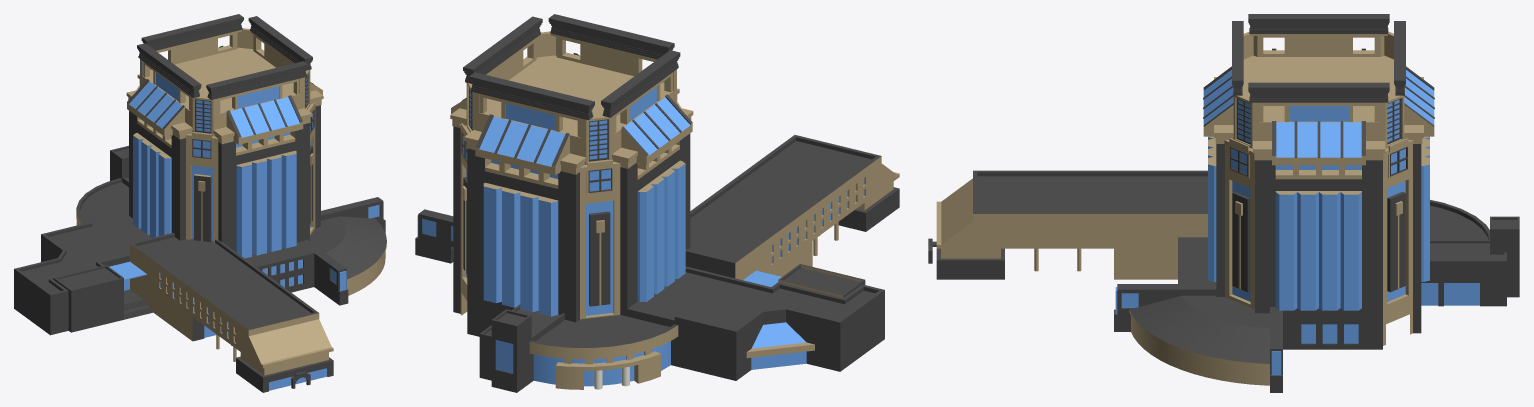
Rendered from SHOU library.fbx.
3 renders of one model, left to right at view 1: azimuth 30°, elevation 25°; view 2: azimuth 150°, elevation 25°; view 3: azimuth 270°, elevation 25°, orthographic. The views are drawn at different scales.
Parts seen in each view (by area): view 1: SHOU library; view 2: SHOU library; view 3: SHOU library.
Boxes of the visible parts, bbox=[...] form: SHOU library: bbox=[14, 14, 386, 392]; SHOU library: bbox=[415, 14, 899, 392]; SHOU library: bbox=[928, 14, 1519, 392].
Size of the model in its own units: 23.8 by 12.99 by 27.26.
